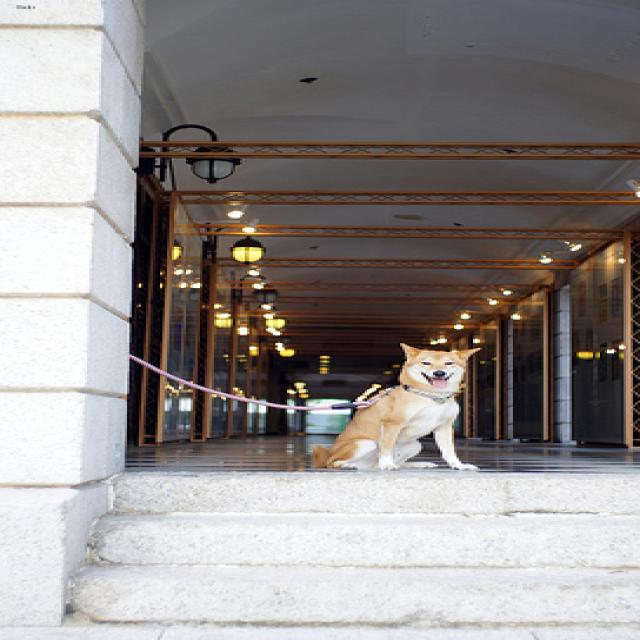dog-shiba_inu: (308, 340, 485, 475)
